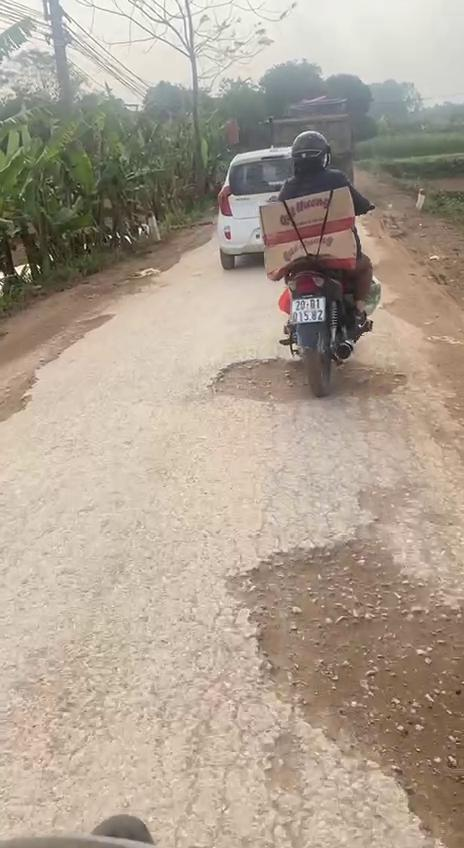pothole: (222, 519, 464, 848), (0, 310, 116, 432), (204, 352, 408, 406)
